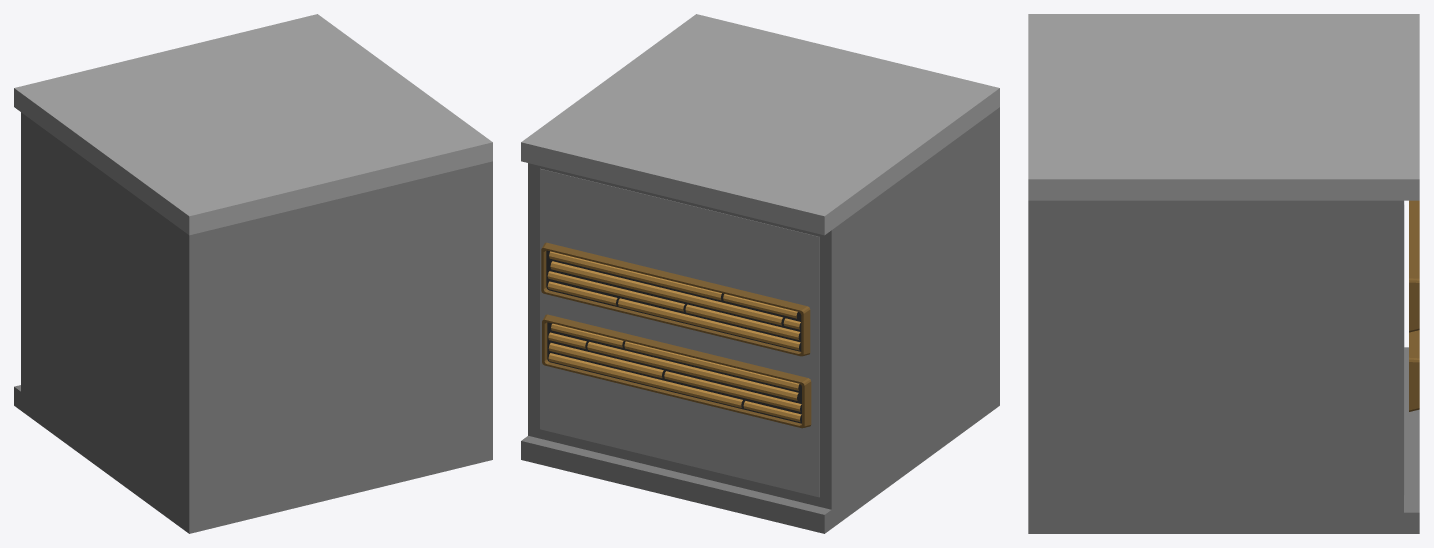
Rendered from LabBlock_Vent_1m.gltf.
3 views of the same model, side by side, from view 1: azimuth 30°, elevation 25°; view 2: azimuth 150°, elevation 25°; view 3: azimuth 270°, elevation 25° (orthographic). The views are drawn at different scales.
Visible parts, largest first — view 1: LabBlock_Vent_1m; view 2: LabBlock_Vent_1m; view 3: LabBlock_Vent_1m.
Boxes of the visible parts, bbox=[...] form: LabBlock_Vent_1m: bbox=[14, 14, 492, 533]; LabBlock_Vent_1m: bbox=[521, 14, 999, 533]; LabBlock_Vent_1m: bbox=[1028, 14, 1419, 533].
Bounding box in the file's own units: 1 × 1 × 1.
